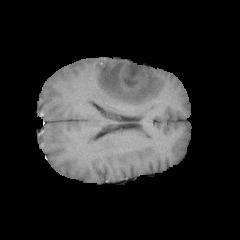glioma: (95, 60, 161, 107)
